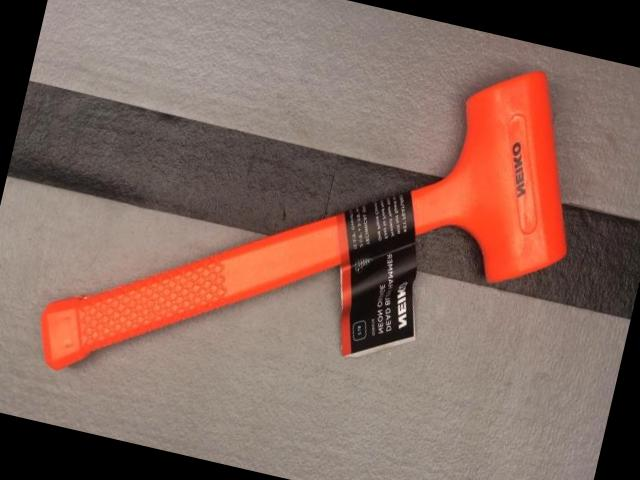hammer: (28, 0, 603, 475)
